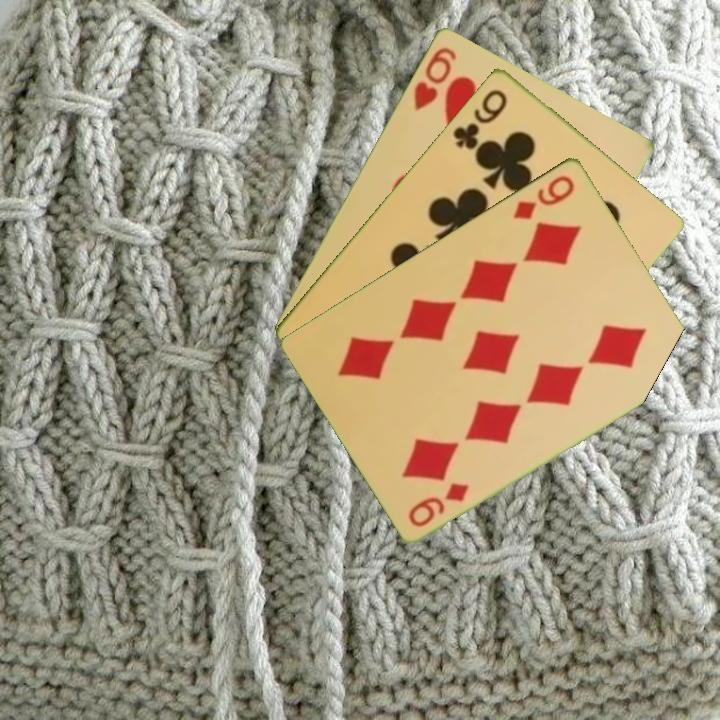6h: (410, 42, 460, 113)
9c: (449, 85, 510, 153)
9d: (404, 478, 472, 530), (509, 171, 578, 222)
